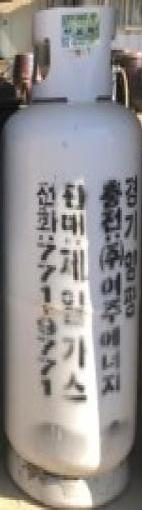cylinder: (1, 1, 142, 510)
